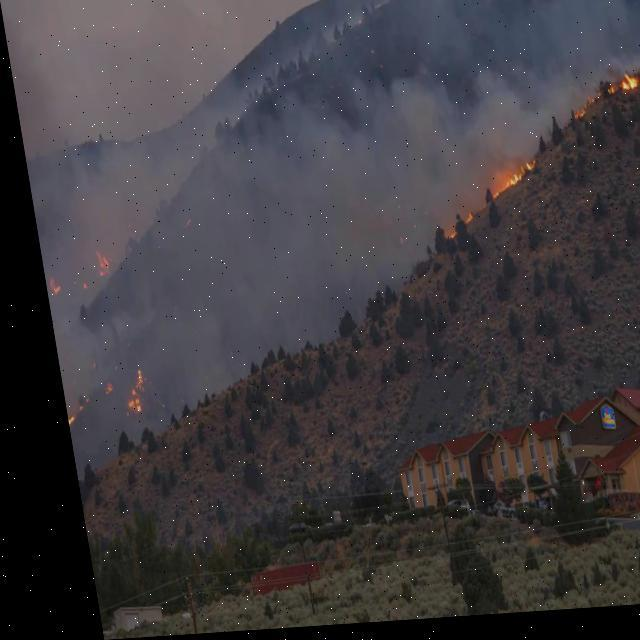Fire: (481, 165, 533, 204), (110, 374, 135, 416), (563, 103, 592, 125), (84, 248, 102, 278), (616, 79, 639, 101), (39, 275, 54, 296), (454, 218, 465, 230), (437, 236, 447, 246), (602, 94, 610, 105)
